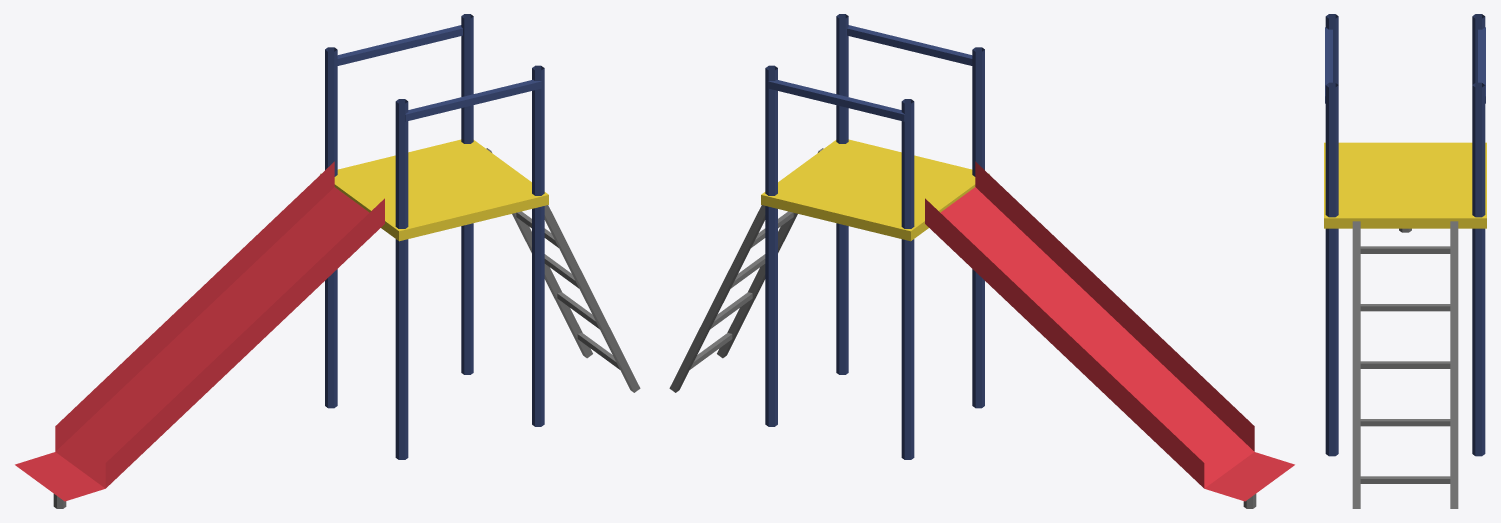
File: site_play2.fbx
The picture shows the model from 3 angles, left to right: view 1: azimuth 30°, elevation 25°; view 2: azimuth 150°, elevation 25°; view 3: azimuth 270°, elevation 25°; orthographic projection. The views are drawn at different scales.
Parts seen in each view (by area): view 1: a3004/0/site_play2; view 2: a3004/0/site_play2; view 3: a3004/0/site_play2.
Part boxes in pixels (bbox=[...]): a3004/0/site_play2: bbox=[15, 14, 640, 508]; a3004/0/site_play2: bbox=[669, 14, 1294, 508]; a3004/0/site_play2: bbox=[1324, 14, 1486, 508].
Bounding box in the file's own units: 4.22 × 2.51 × 1.
